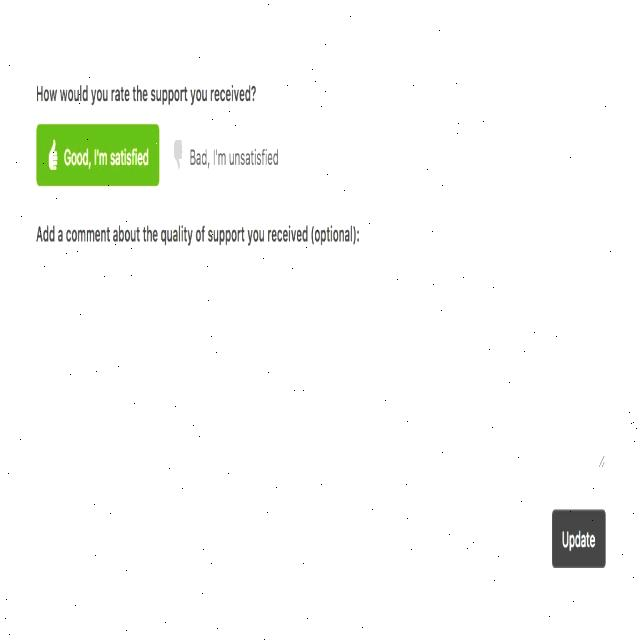button: (551, 510, 605, 569), (171, 134, 187, 172), (45, 136, 59, 176)
input: (31, 258, 614, 476)
label: (30, 219, 368, 253), (31, 81, 266, 110), (64, 141, 156, 181), (190, 141, 287, 175)
